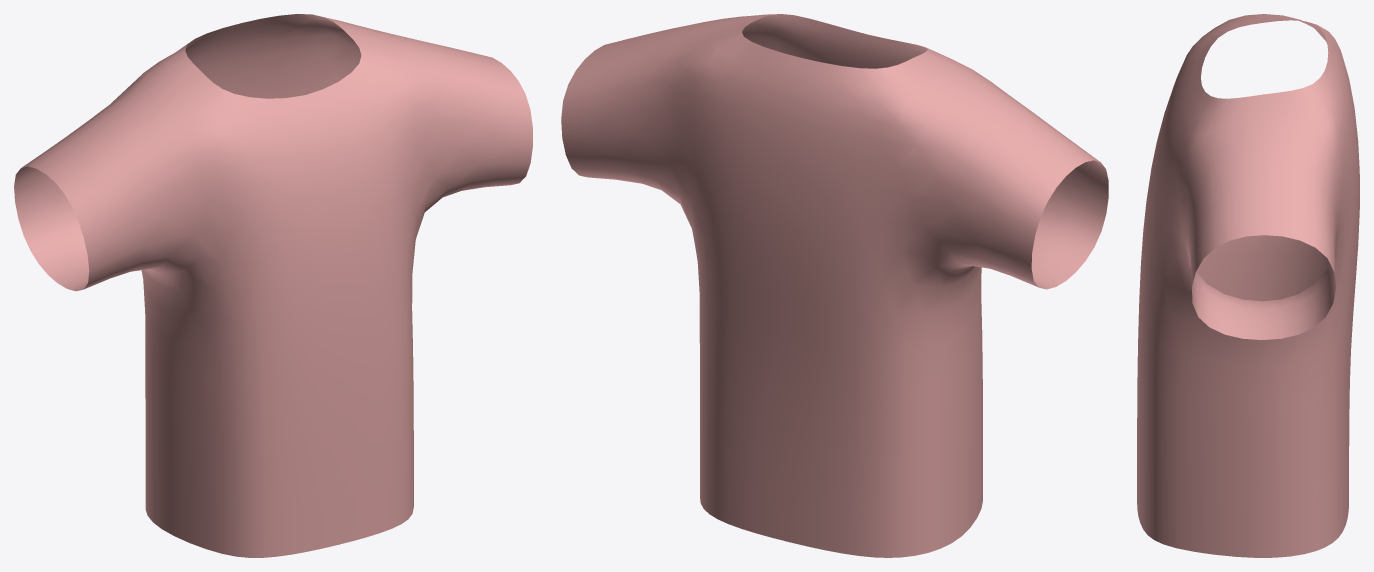
The model's file is tshirtC.fbx.
3 views of the same model, side by side, from view 1: azimuth 30°, elevation 25°; view 2: azimuth 150°, elevation 25°; view 3: azimuth 270°, elevation 25° (orthographic). The views are drawn at different scales.
Parts seen in each view (by area): view 1: tshirtA:pCube1; view 2: tshirtA:pCube1; view 3: tshirtA:pCube1.
Boxes of the visible parts, box(x1,y1,x2,y2) form: tshirtA:pCube1: box(14, 14, 532, 557); tshirtA:pCube1: box(561, 14, 1108, 557); tshirtA:pCube1: box(1137, 14, 1359, 557).
Size of the model in its own units: 2.59 by 2.45 by 1.1.
